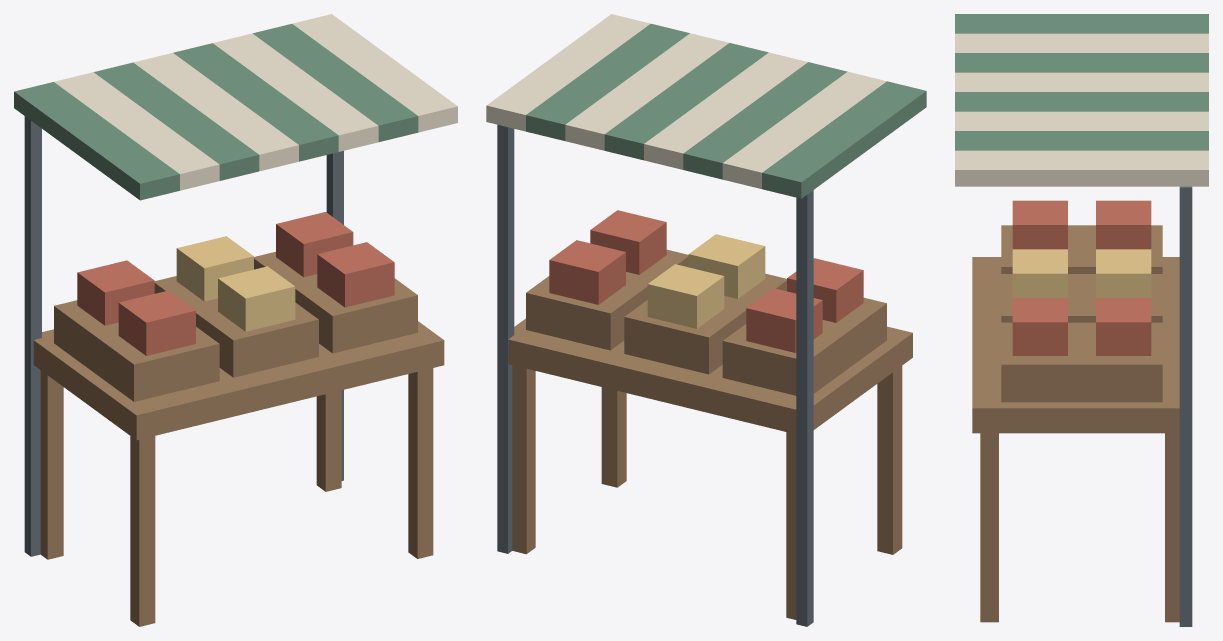
Rendered from q03-stall.glb.
3 views of the same model, side by side, from view 1: azimuth 30°, elevation 25°; view 2: azimuth 150°, elevation 25°; view 3: azimuth 270°, elevation 25° (orthographic).
Size of the model in its own units: 1.6 by 2.19 by 1.1.
